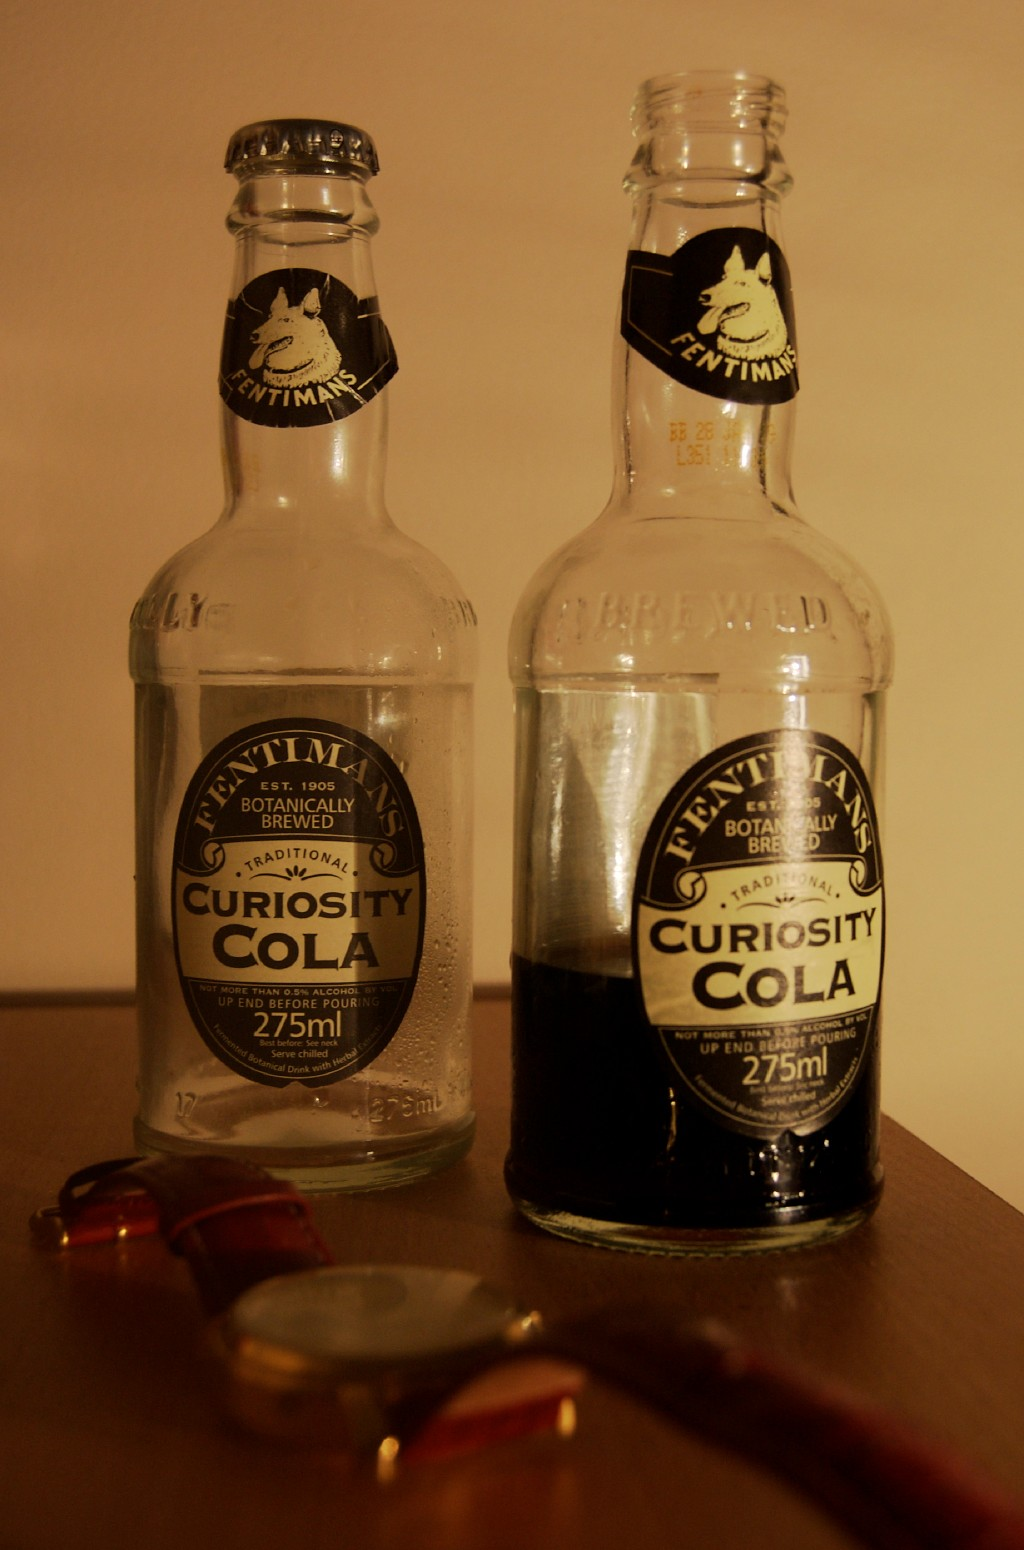bottle: (511, 58, 890, 1268), (118, 110, 474, 1195)
